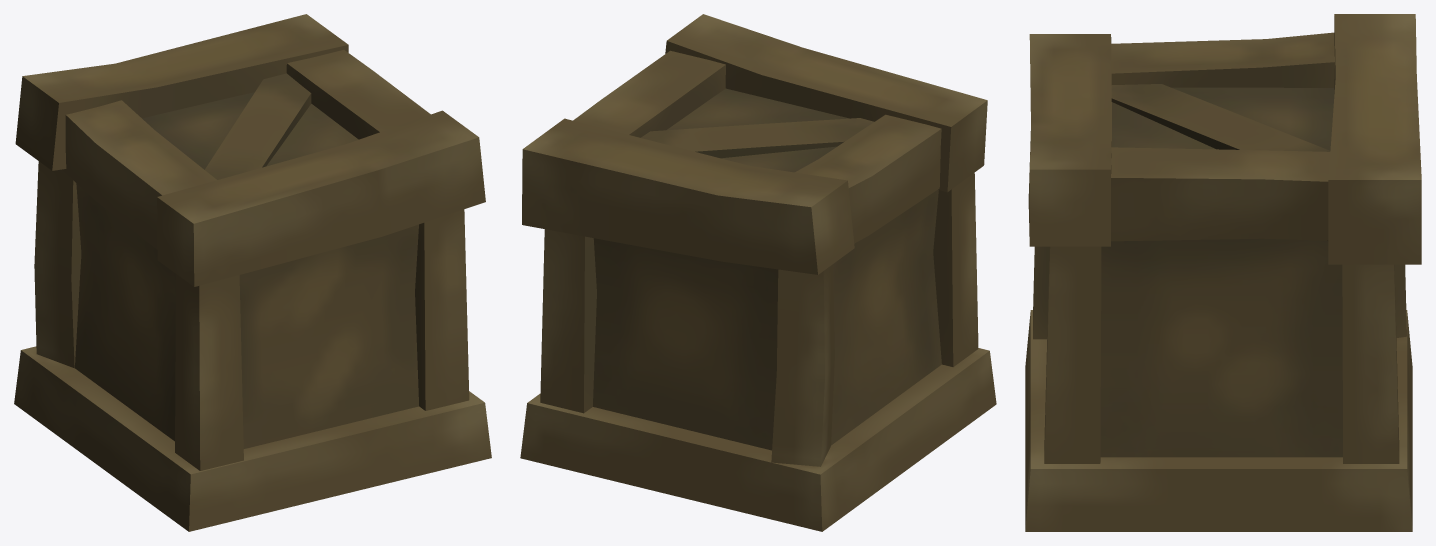
Rendered from Primera_Slums_Props _Box01.fbx.
3 views of the same model, side by side, from view 1: azimuth 30°, elevation 25°; view 2: azimuth 150°, elevation 25°; view 3: azimuth 270°, elevation 25° (orthographic). The views are drawn at different scales.
Parts seen in each view (by area): view 1: Primera_Slums_Props _Box01; view 2: Primera_Slums_Props _Box01; view 3: Primera_Slums_Props _Box01.
Part boxes in pixels (x1,y1,x2,y2): Primera_Slums_Props _Box01: (14, 14, 491, 531); Primera_Slums_Props _Box01: (520, 14, 996, 531); Primera_Slums_Props _Box01: (1025, 14, 1421, 531).
Bounding box in the file's own units: 237 × 242 × 242.
1 material, 1 textured.
